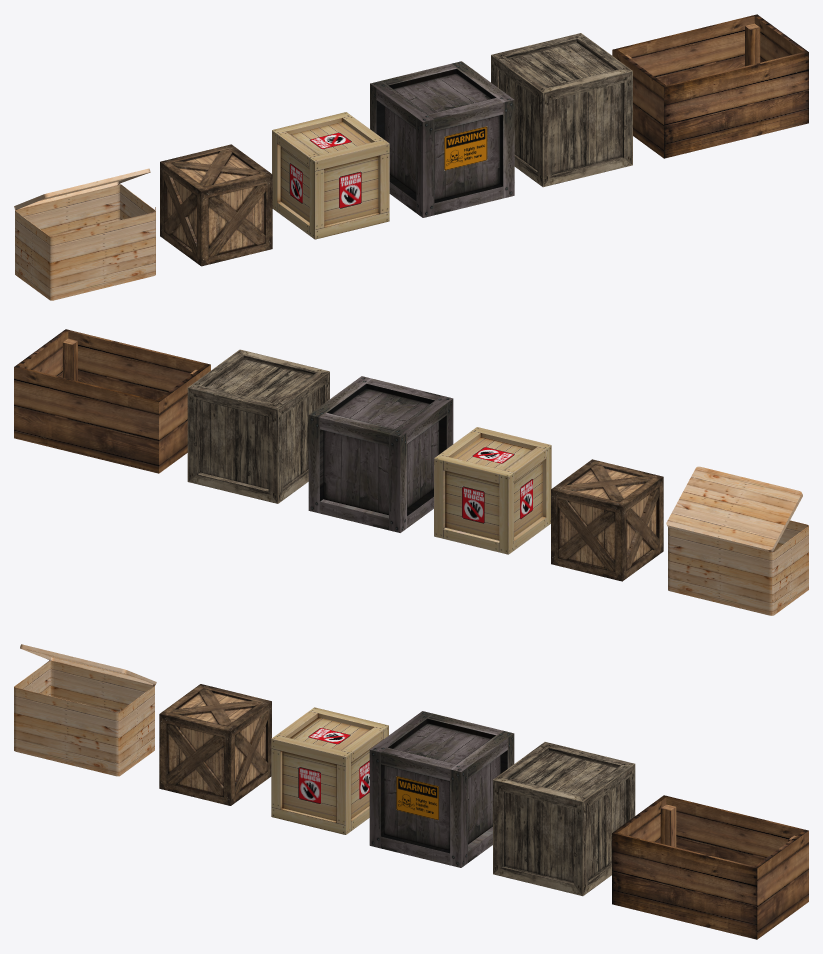
File: Boxes and crates by Jungle Jim.fbx
3 views of the same model, one above another, from view 1: azimuth 30°, elevation 25°; view 2: azimuth 150°, elevation 25°; view 3: azimuth 330°, elevation 25° (orthographic).
Visible parts, largest first — view 1: Box6 by Jungle Jim, Box2 by Jungle Jim, Box5 by Jungle Jim, Box4 by Jungle Jim, Box1 by Jungle Jim, Box3 by Jungle Jim, Lid; view 2: Box6 by Jungle Jim, Box2 by Jungle Jim, Box5 by Jungle Jim, Box1 by Jungle Jim, Box3 by Jungle Jim, Box4 by Jungle Jim, Lid; view 3: Box6 by Jungle Jim, Box2 by Jungle Jim, Box5 by Jungle Jim, Box4 by Jungle Jim, Box3 by Jungle Jim, Box1 by Jungle Jim, Lid.
Part boxes in pixels (x1,y1,x2,y2): Box6 by Jungle Jim: (612,14,808,158); Box2 by Jungle Jim: (370,61,514,217); Box5 by Jungle Jim: (491,33,632,187); Box4 by Jungle Jim: (15,184,155,300); Box1 by Jungle Jim: (272,112,389,239); Box3 by Jungle Jim: (160,144,272,266); Lid: (14,168,150,209); Box6 by Jungle Jim: (14,329,210,473); Box2 by Jungle Jim: (308,376,453,532); Box5 by Jungle Jim: (187,349,329,503); Box1 by Jungle Jim: (434,427,551,554); Box3 by Jungle Jim: (551,459,663,581); Box4 by Jungle Jim: (668,520,808,615); Lid: (666,466,802,552); Box6 by Jungle Jim: (612,795,808,939); Box2 by Jungle Jim: (369,711,514,867); Box5 by Jungle Jim: (493,742,635,896); Box4 by Jungle Jim: (14,660,154,776); Box3 by Jungle Jim: (159,684,271,805); Box1 by Jungle Jim: (271,707,388,834); Lid: (20,644,156,685).
Bounding box in the file's own units: 4570 × 565 × 594.
Materials: 8 (8 with a texture image).
